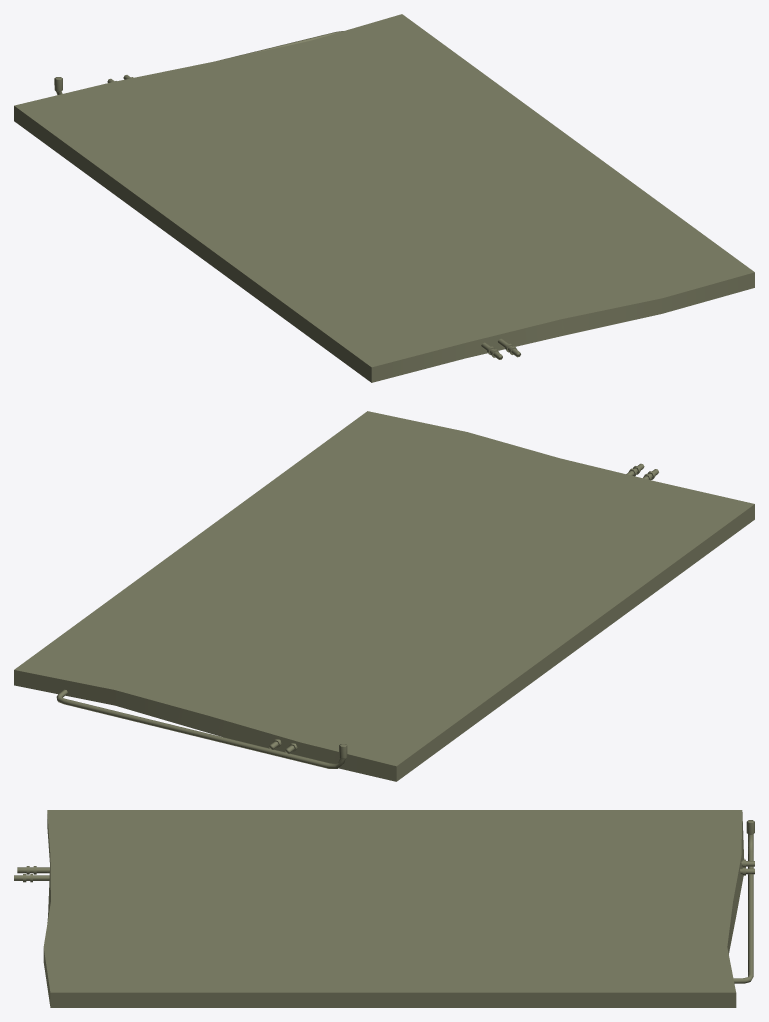
File: longcFloor3_LP.fbx
3 renders of one model, top to bottom at view 1: azimuth 30°, elevation 25°; view 2: azimuth 150°, elevation 25°; view 3: azimuth 270°, elevation 25°, orthographic. The views are drawn at different scales.
Parts seen in each view (by area): view 1: longFloor1_LP, longFloor6_LP; view 2: longFloor1_LP, longFloor6_LP; view 3: longFloor1_LP, longFloor6_LP.
Part boxes in pixels (box(x1,y1,x2,y2)): longFloor1_LP: box(14, 14, 754, 382); longFloor6_LP: box(54, 31, 520, 359); longFloor1_LP: box(14, 411, 754, 781); longFloor6_LP: box(56, 463, 658, 768); longFloor1_LP: box(43, 810, 744, 1007); longFloor6_LP: box(14, 820, 754, 983).
Size of the model in its own units: 572 by 39.23 by 981.
